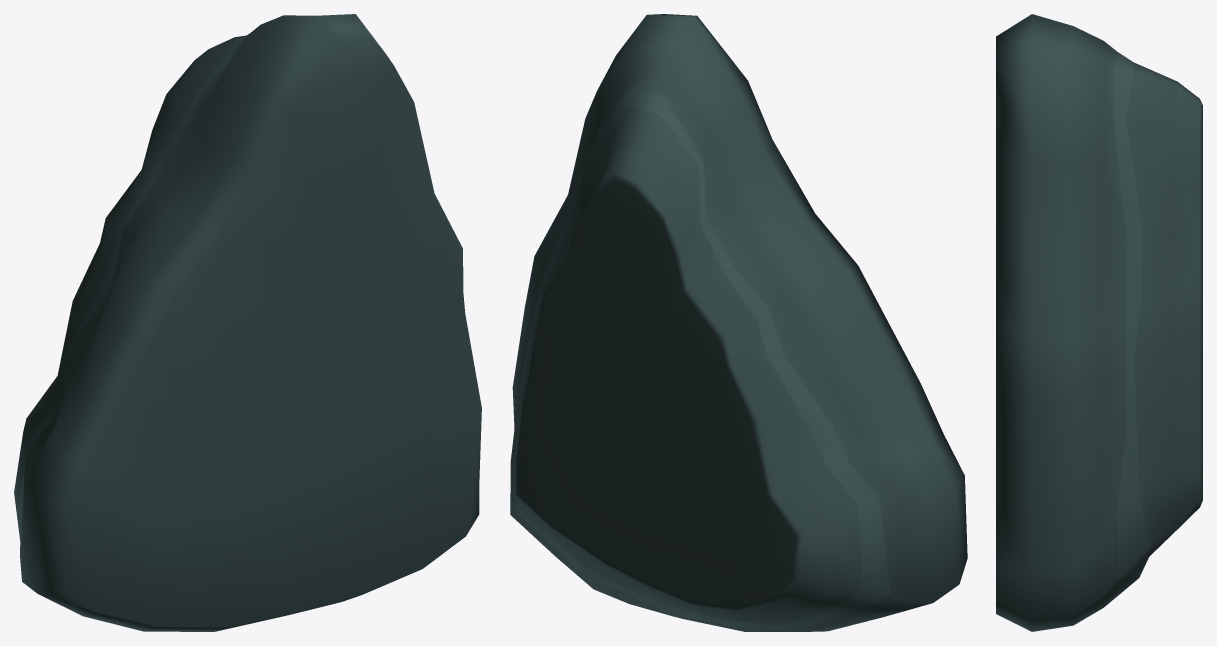
File: AlienCliff.001.glb
The picture shows the model from 3 angles, left to right: view 1: azimuth 30°, elevation 25°; view 2: azimuth 150°, elevation 25°; view 3: azimuth 270°, elevation 25°; orthographic projection.
Visible parts, largest first — view 1: AlienCliff.001; view 2: AlienCliff.001; view 3: AlienCliff.001.
Boxes of the visible parts, x1,y1,x2,y2 form: AlienCliff.001: (14, 14, 481, 631); AlienCliff.001: (510, 14, 967, 631); AlienCliff.001: (996, 14, 1202, 631).
Size of the model in its own units: 6817 by 8900 by 2853.
